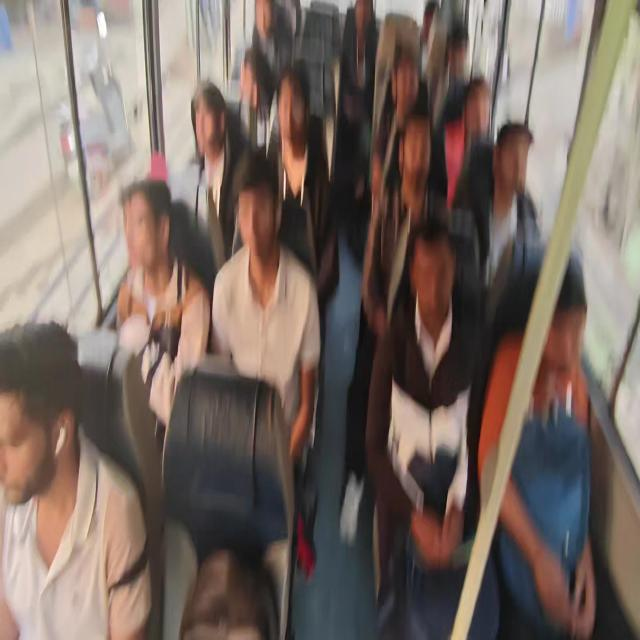person: (1, 1, 630, 637), (210, 152, 322, 636), (364, 214, 486, 637), (0, 320, 153, 638), (477, 250, 599, 638), (116, 177, 212, 437), (265, 67, 337, 295), (476, 121, 544, 321), (190, 79, 250, 267), (178, 546, 279, 638)
